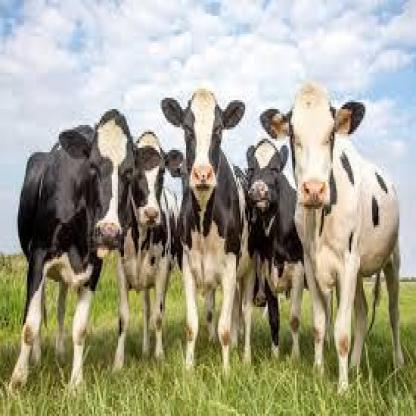cow: (257, 86, 409, 393), (8, 108, 161, 397), (160, 91, 250, 377), (113, 133, 183, 367), (244, 139, 304, 357)
